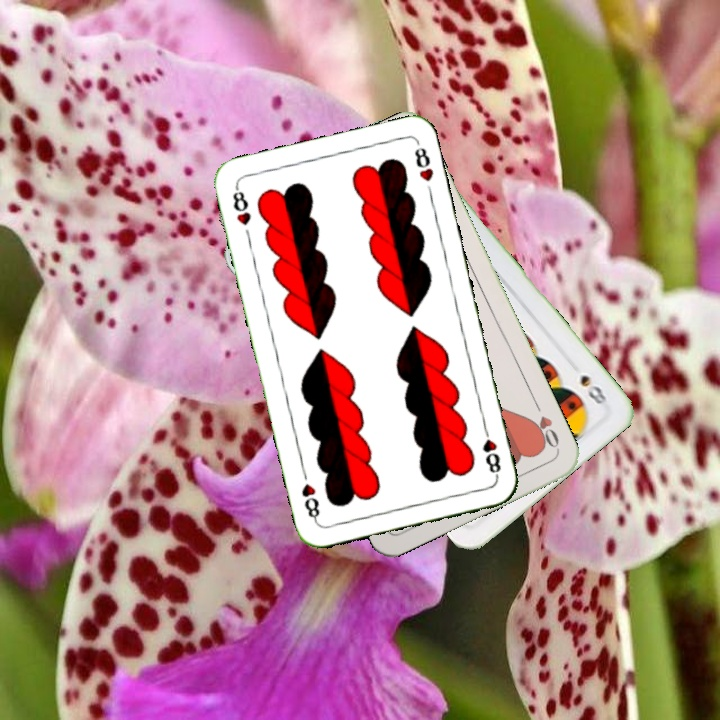H8: (478, 422, 503, 480), (228, 183, 254, 228)
HO: (526, 396, 562, 452)
S8: (576, 370, 610, 407)
